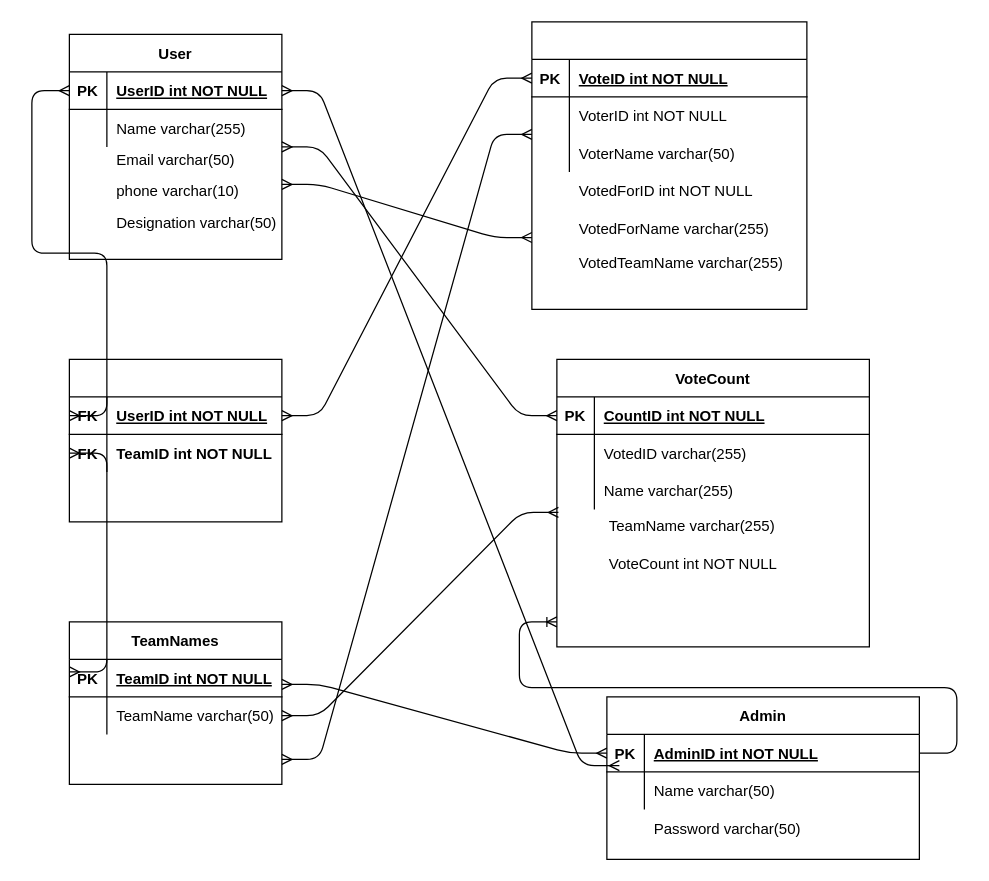
Some shapes in this 989 by 881 pixel diagram are drawn without their labels. Each missing label, with the box of its shape:
RelationshipTable: (68, 358, 282, 522)
VoteResponse: (531, 21, 807, 309)
